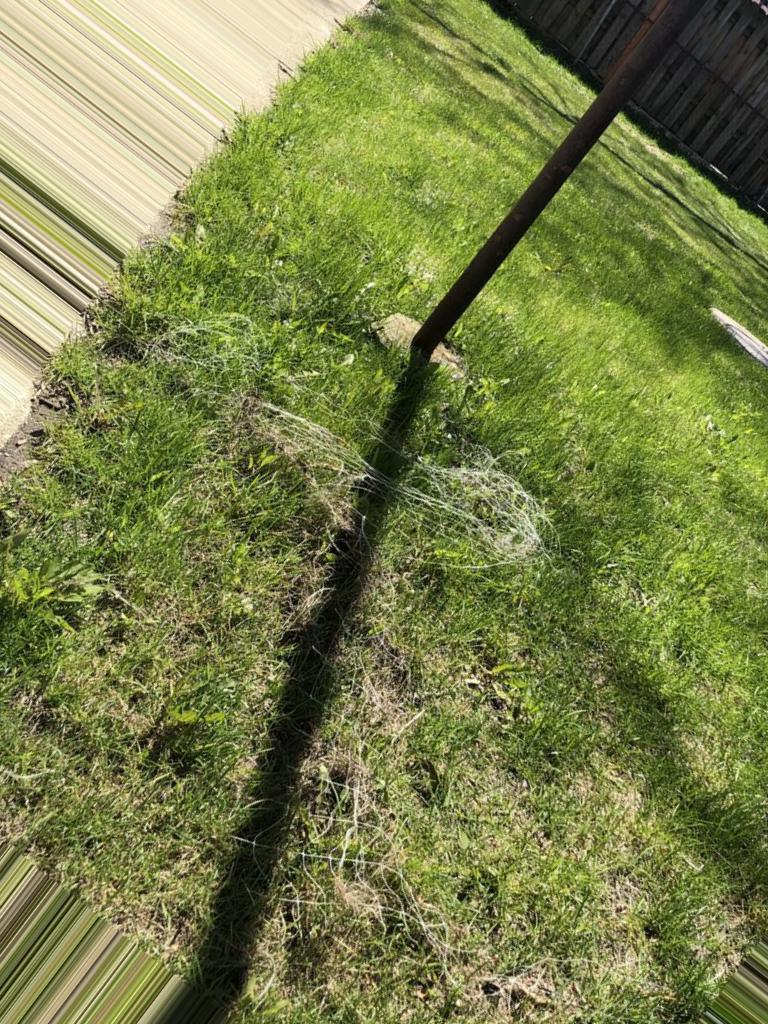patch: (162, 461, 331, 959), (384, 756, 570, 945)
